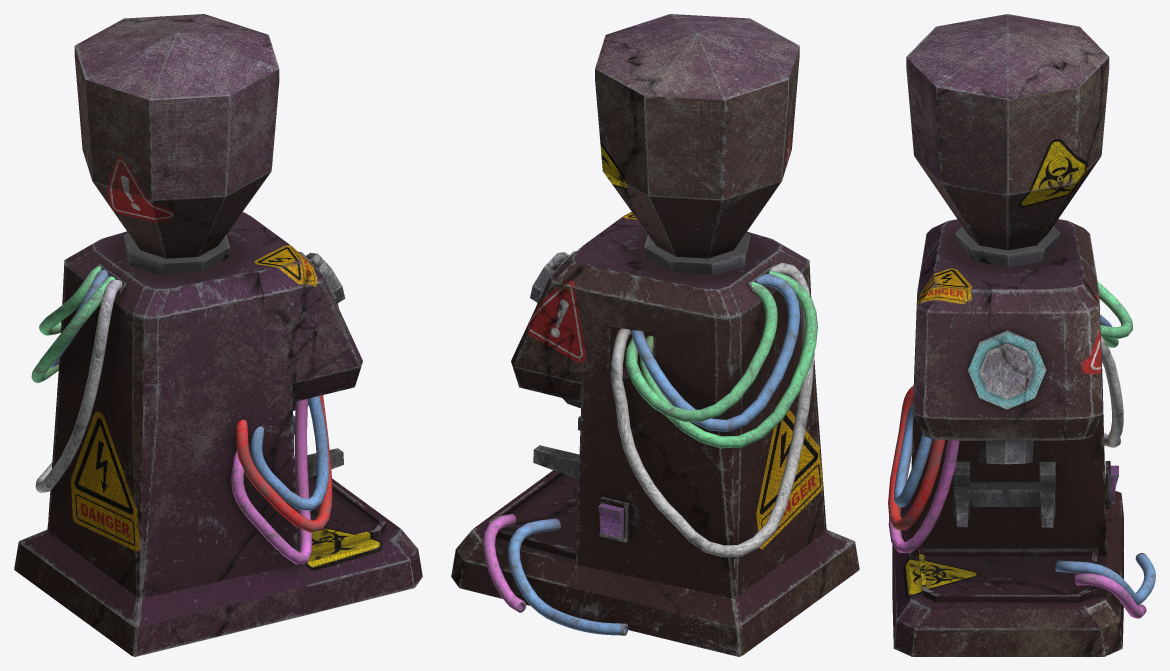
The model's file is MolinoCafe_Cables.glb.
The picture shows the model from 3 angles, left to right: view 1: azimuth 30°, elevation 25°; view 2: azimuth 150°, elevation 25°; view 3: azimuth 270°, elevation 25°; orthographic projection. The views are drawn at different scales.
Visible parts, largest first — view 1: Molino_Cuerpo, Molino_Cable_B, Molino_Cable_A; view 2: Molino_Cuerpo, Molino_Cable_A, Molino_Cable_C, Molino_Horquilla; view 3: Molino_Cuerpo, Molino_Cable_B, Molino_Horquilla, Molino_Cable_C, Molino_Cable_A, Molino_Boquilla.
Part boxes in pixels (x1,y1,x2,y2): Molino_Cuerpo: (14,14,422,656); Molino_Cable_B: (231,395,332,564); Molino_Cable_A: (31,265,122,492); Molino_Cuerpo: (451,14,859,656); Molino_Cable_A: (610,262,817,557); Molino_Cable_C: (483,514,628,635); Molino_Horquilla: (533,415,580,479); Molino_Cuerpo: (892,14,1123,656); Molino_Cable_B: (888,385,959,553); Molino_Horquilla: (953,461,1055,527); Molino_Cable_C: (1055,553,1155,618); Molino_Cable_A: (1097,282,1132,447); Molino_Boquilla: (978,440,1033,464).
Bounding box in the file's own units: 0.3415 × 0.5719 × 0.2613.
3 materials, 3 textured.
